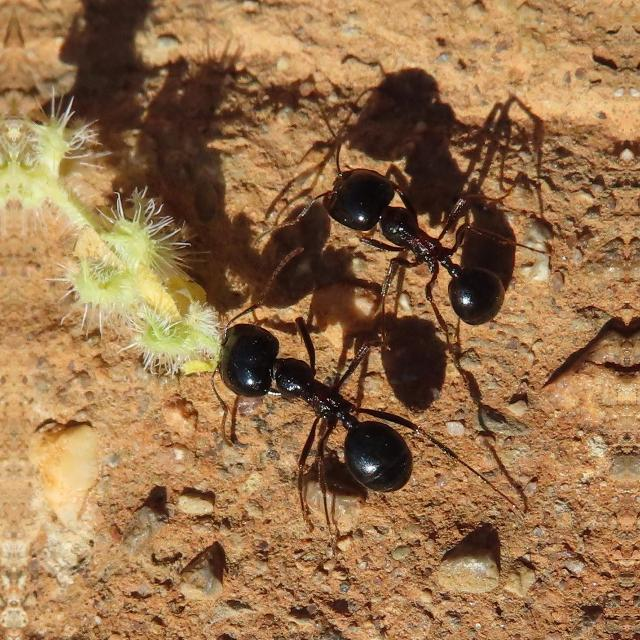Messor: (156, 306, 422, 512), (289, 138, 523, 348)
